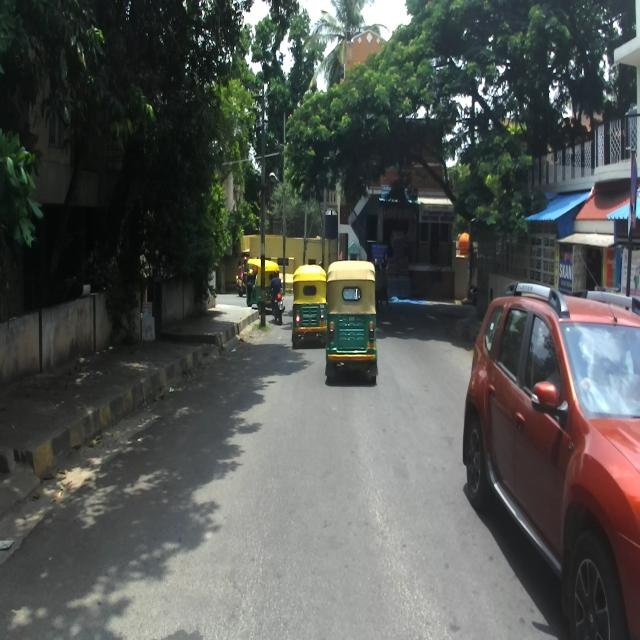auto ahead at: (325, 261, 376, 381), (294, 270, 327, 338), (349, 488, 350, 492)
car ahead at: (467, 279, 640, 640)
